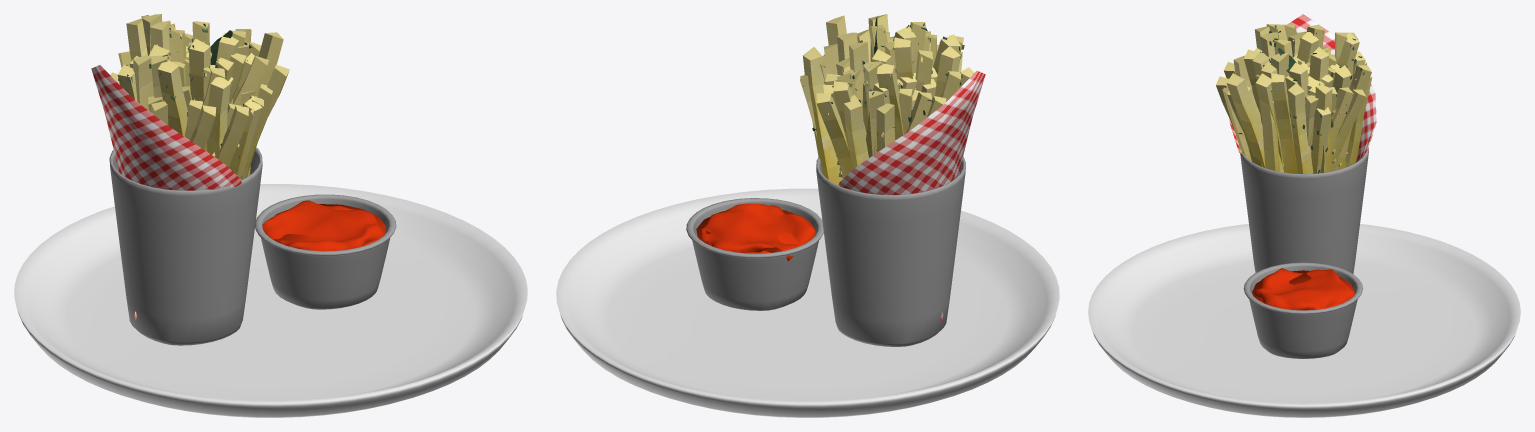
Rendered from french-fries.glb.
3 views of the same model, side by side, from view 1: azimuth 30°, elevation 25°; view 2: azimuth 150°, elevation 25°; view 3: azimuth 270°, elevation 25° (orthographic). The views are drawn at different scales.
Parts seen in each view (by area): view 1: FriesPlate, FrenchFryCup, KetchupCup, Plane.003, Fries1.002, Fries1.037, Fries1.003 (×6), KechupSurface, Fries1.001, Ketchup; view 2: FriesPlate, FrenchFryCup, KetchupCup, Plane.003, Fries1.002, Fries1.037, KechupSurface, Fries1.004 (×2), Fries1.001, Ketchup; view 3: FriesPlate, FrenchFryCup, Fries1.002, KetchupCup, Fries1.037, Fries1.003 (×3), KechupSurface, Fries1.004 (×2), Plane.003, Fries1.001, Ketchup.
Part boxes in pixels (x1,y1,x2,y2): FriesPlate: (14, 184, 527, 417); FrenchFryCup: (109, 147, 262, 345); KetchupCup: (255, 194, 396, 309); Plane.003: (91, 65, 241, 320); Fries1.002: (118, 15, 262, 179); Fries1.037: (110, 21, 261, 136); Fries1.003 (×6): (190, 32, 289, 179); KechupSurface: (262, 200, 384, 251); Fries1.001: (133, 55, 153, 110); Ketchup: (273, 204, 385, 250); FriesPlate: (556, 188, 1059, 417); FrenchFryCup: (816, 156, 965, 346); KetchupCup: (686, 198, 823, 310); Plane.003: (838, 70, 985, 321); Fries1.002: (816, 24, 936, 178); Fries1.037: (800, 22, 974, 179); KechupSurface: (701, 203, 816, 261); Fries1.004 (×2): (803, 47, 868, 185); Fries1.001: (935, 46, 960, 97); Ketchup: (696, 210, 813, 253); FriesPlate: (1088, 224, 1520, 417); FrenchFryCup: (1240, 148, 1368, 273); Fries1.002: (1222, 24, 1371, 172); KetchupCup: (1243, 262, 1362, 358); Fries1.037: (1252, 24, 1365, 173); Fries1.003 (×3): (1226, 73, 1297, 173); KechupSurface: (1254, 268, 1354, 310); Fries1.004 (×2): (1314, 76, 1372, 173); Plane.003: (1229, 14, 1376, 162); Fries1.001: (1259, 102, 1279, 171); Ketchup: (1252, 270, 1354, 310).
Bounding box in the file's own units: 4.9 × 3.35 × 4.9.
Materials: 7 (2 with a texture image).
